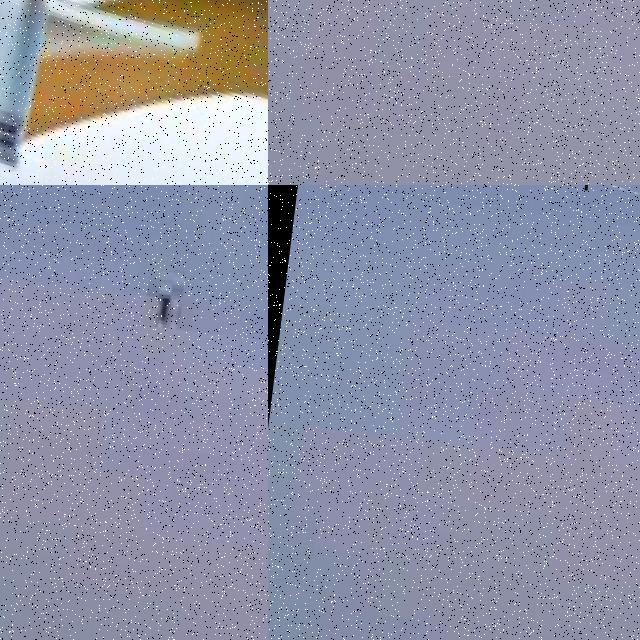drone: (0, 0, 268, 185)
